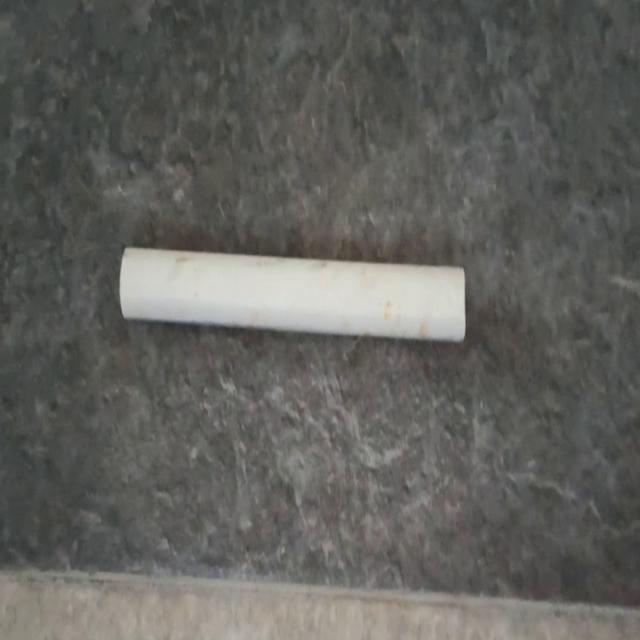Cube: (118, 243, 467, 344)
